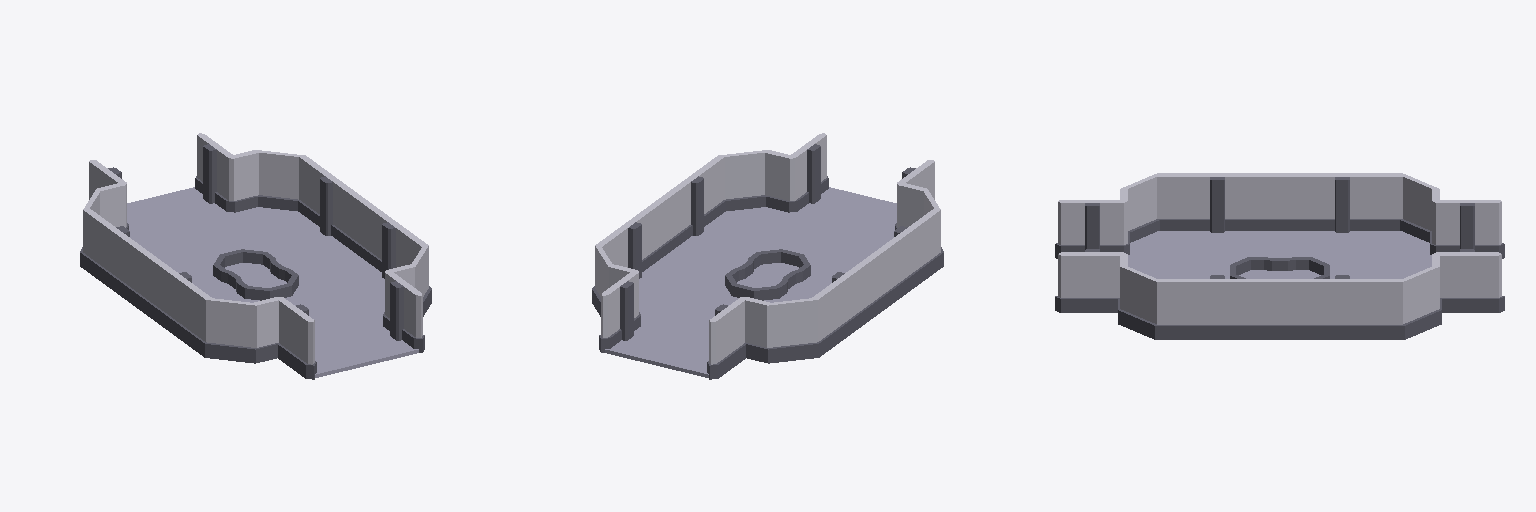
Rendered from hallway_07.obj.
3 renders of one model, left to right at view 1: azimuth 30°, elevation 25°; view 2: azimuth 150°, elevation 25°; view 3: azimuth 270°, elevation 25°, orthographic.
Visible parts, largest first — view 1: floor_02_33, corner_02_41, corner_02_43, floor_02_34, floor_04_38, floor_02_36, floor_04_30, floor_04_39, wall_02_48, wall_02_44, corner_02_42, fountain_03_27 (+10 smaller); view 2: corner_02_42, floor_02_34, corner_02_40, floor_02_33, floor_04_39, floor_02_35, floor_04_30, floor_04_38, wall_02_51, wall_02_47, corner_02_41, fountain_03_27 (+10 smaller); view 3: floor_02_36, floor_02_35, corner_02_43, corner_02_40, wall_02_45, wall_02_46, wall_02_47, wall_02_44, wall_01_54, corner_02_42, wall_02_49, wall_02_50 (+6 smaller).
Part boxes in pixels (bbox=[...]): floor_02_33: bbox=[175, 207, 344, 269]; corner_02_41: bbox=[189, 287, 282, 363]; corner_02_43: bbox=[226, 150, 320, 220]; floor_02_34: bbox=[285, 269, 384, 338]; floor_04_38: bbox=[315, 327, 418, 377]; floor_02_36: bbox=[130, 222, 243, 282]; floor_04_30: bbox=[237, 243, 375, 287]; floor_04_39: bbox=[127, 187, 223, 233]; wall_02_48: bbox=[277, 297, 316, 379]; wall_02_44: bbox=[383, 271, 424, 352]; corner_02_42: bbox=[80, 182, 128, 276]; fountain_03_27: bbox=[213, 249, 298, 300]; corner_02_42: bbox=[741, 287, 834, 363]; floor_02_34: bbox=[679, 207, 845, 270]; corner_02_40: bbox=[703, 150, 797, 220]; floor_02_33: bbox=[639, 269, 738, 338]; floor_04_39: bbox=[605, 324, 708, 377]; floor_02_35: bbox=[783, 222, 893, 281]; floor_04_30: bbox=[648, 245, 785, 287]; floor_04_38: bbox=[800, 187, 896, 235]; wall_02_51: bbox=[707, 297, 746, 379]; wall_02_47: bbox=[599, 271, 640, 352]; corner_02_41: bbox=[895, 182, 943, 276]; fountain_03_27: bbox=[725, 249, 810, 300]; floor_02_36: bbox=[1307, 231, 1431, 278]; floor_02_35: bbox=[1128, 231, 1252, 278]; corner_02_43: bbox=[1370, 253, 1441, 339]; corner_02_40: bbox=[1118, 253, 1189, 339]; wall_02_45: bbox=[1182, 275, 1252, 339]; wall_02_46: bbox=[1307, 275, 1377, 339]; wall_02_47: bbox=[1433, 249, 1504, 312]; wall_02_44: bbox=[1055, 249, 1125, 312]; wall_01_54: bbox=[1245, 279, 1313, 339]; corner_02_42: bbox=[1371, 173, 1439, 254]; wall_02_49: bbox=[1185, 173, 1251, 232]; wall_02_50: bbox=[1309, 173, 1373, 232].
Bounding box in the file's own units: 4.21 × 1 × 7.21.